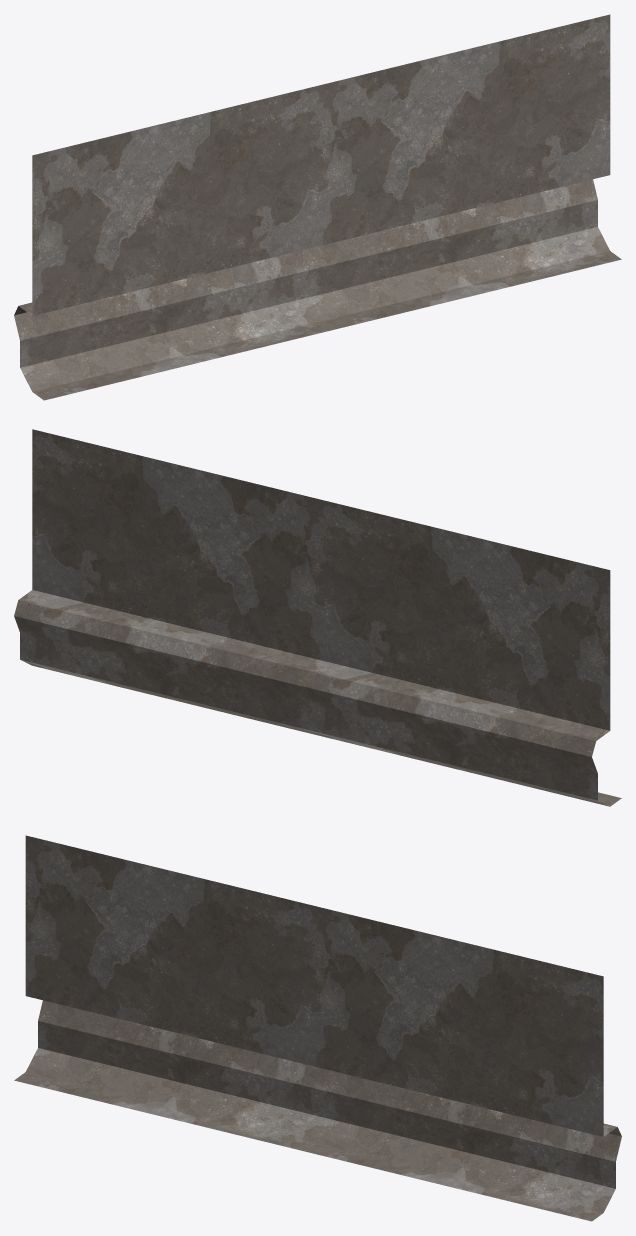
The model's file is DoorWay_Trim.fbx.
The picture shows the model from 3 angles, top to bottom: view 1: azimuth 30°, elevation 25°; view 2: azimuth 150°, elevation 25°; view 3: azimuth 330°, elevation 25°; orthographic projection.
Visible parts, largest first — view 1: DoorWay_Trim; view 2: DoorWay_Trim; view 3: DoorWay_Trim.
Boxes of the visible parts, x1,y1,x2,y2 form: DoorWay_Trim: [14, 14, 621, 400]; DoorWay_Trim: [14, 429, 621, 806]; DoorWay_Trim: [14, 835, 621, 1221].
Size of the model in its own units: 4 by 1.56 by 0.3602.
